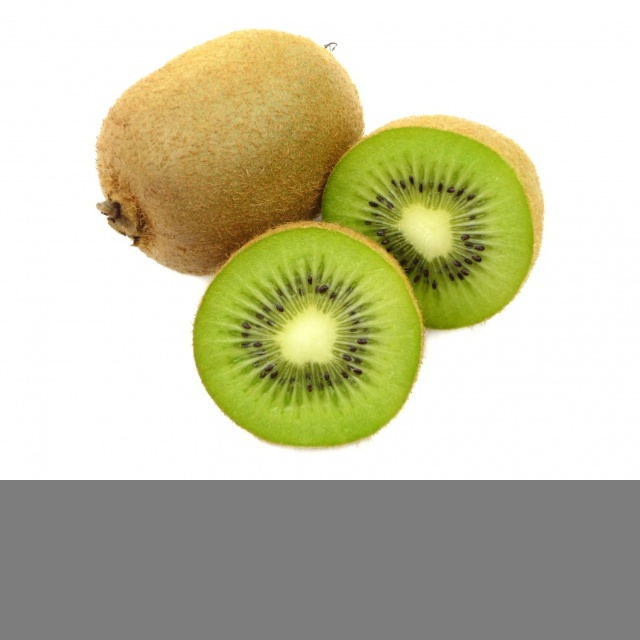kiwi: (97, 31, 364, 258), (196, 225, 424, 440), (330, 110, 544, 330)
